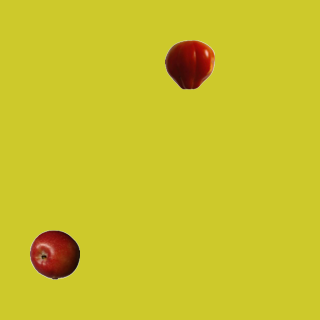Apple Braeburn: (29, 229, 79, 279)
Tomato 1: (164, 39, 214, 89)
